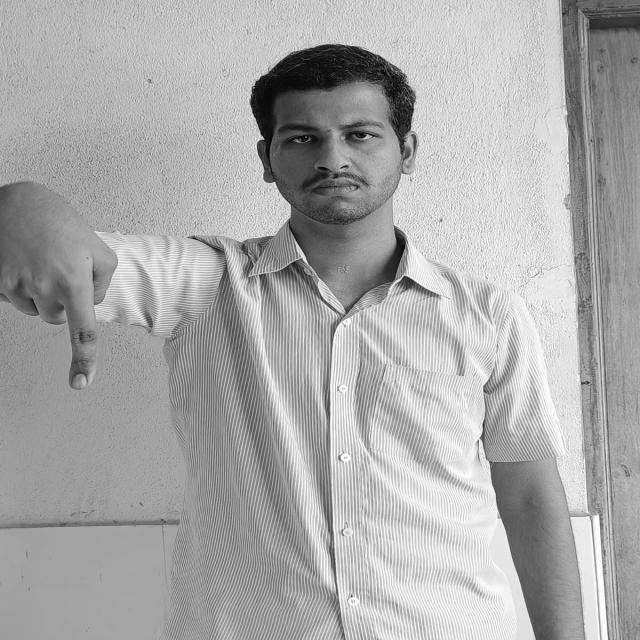Now: (4, 181, 109, 396)
